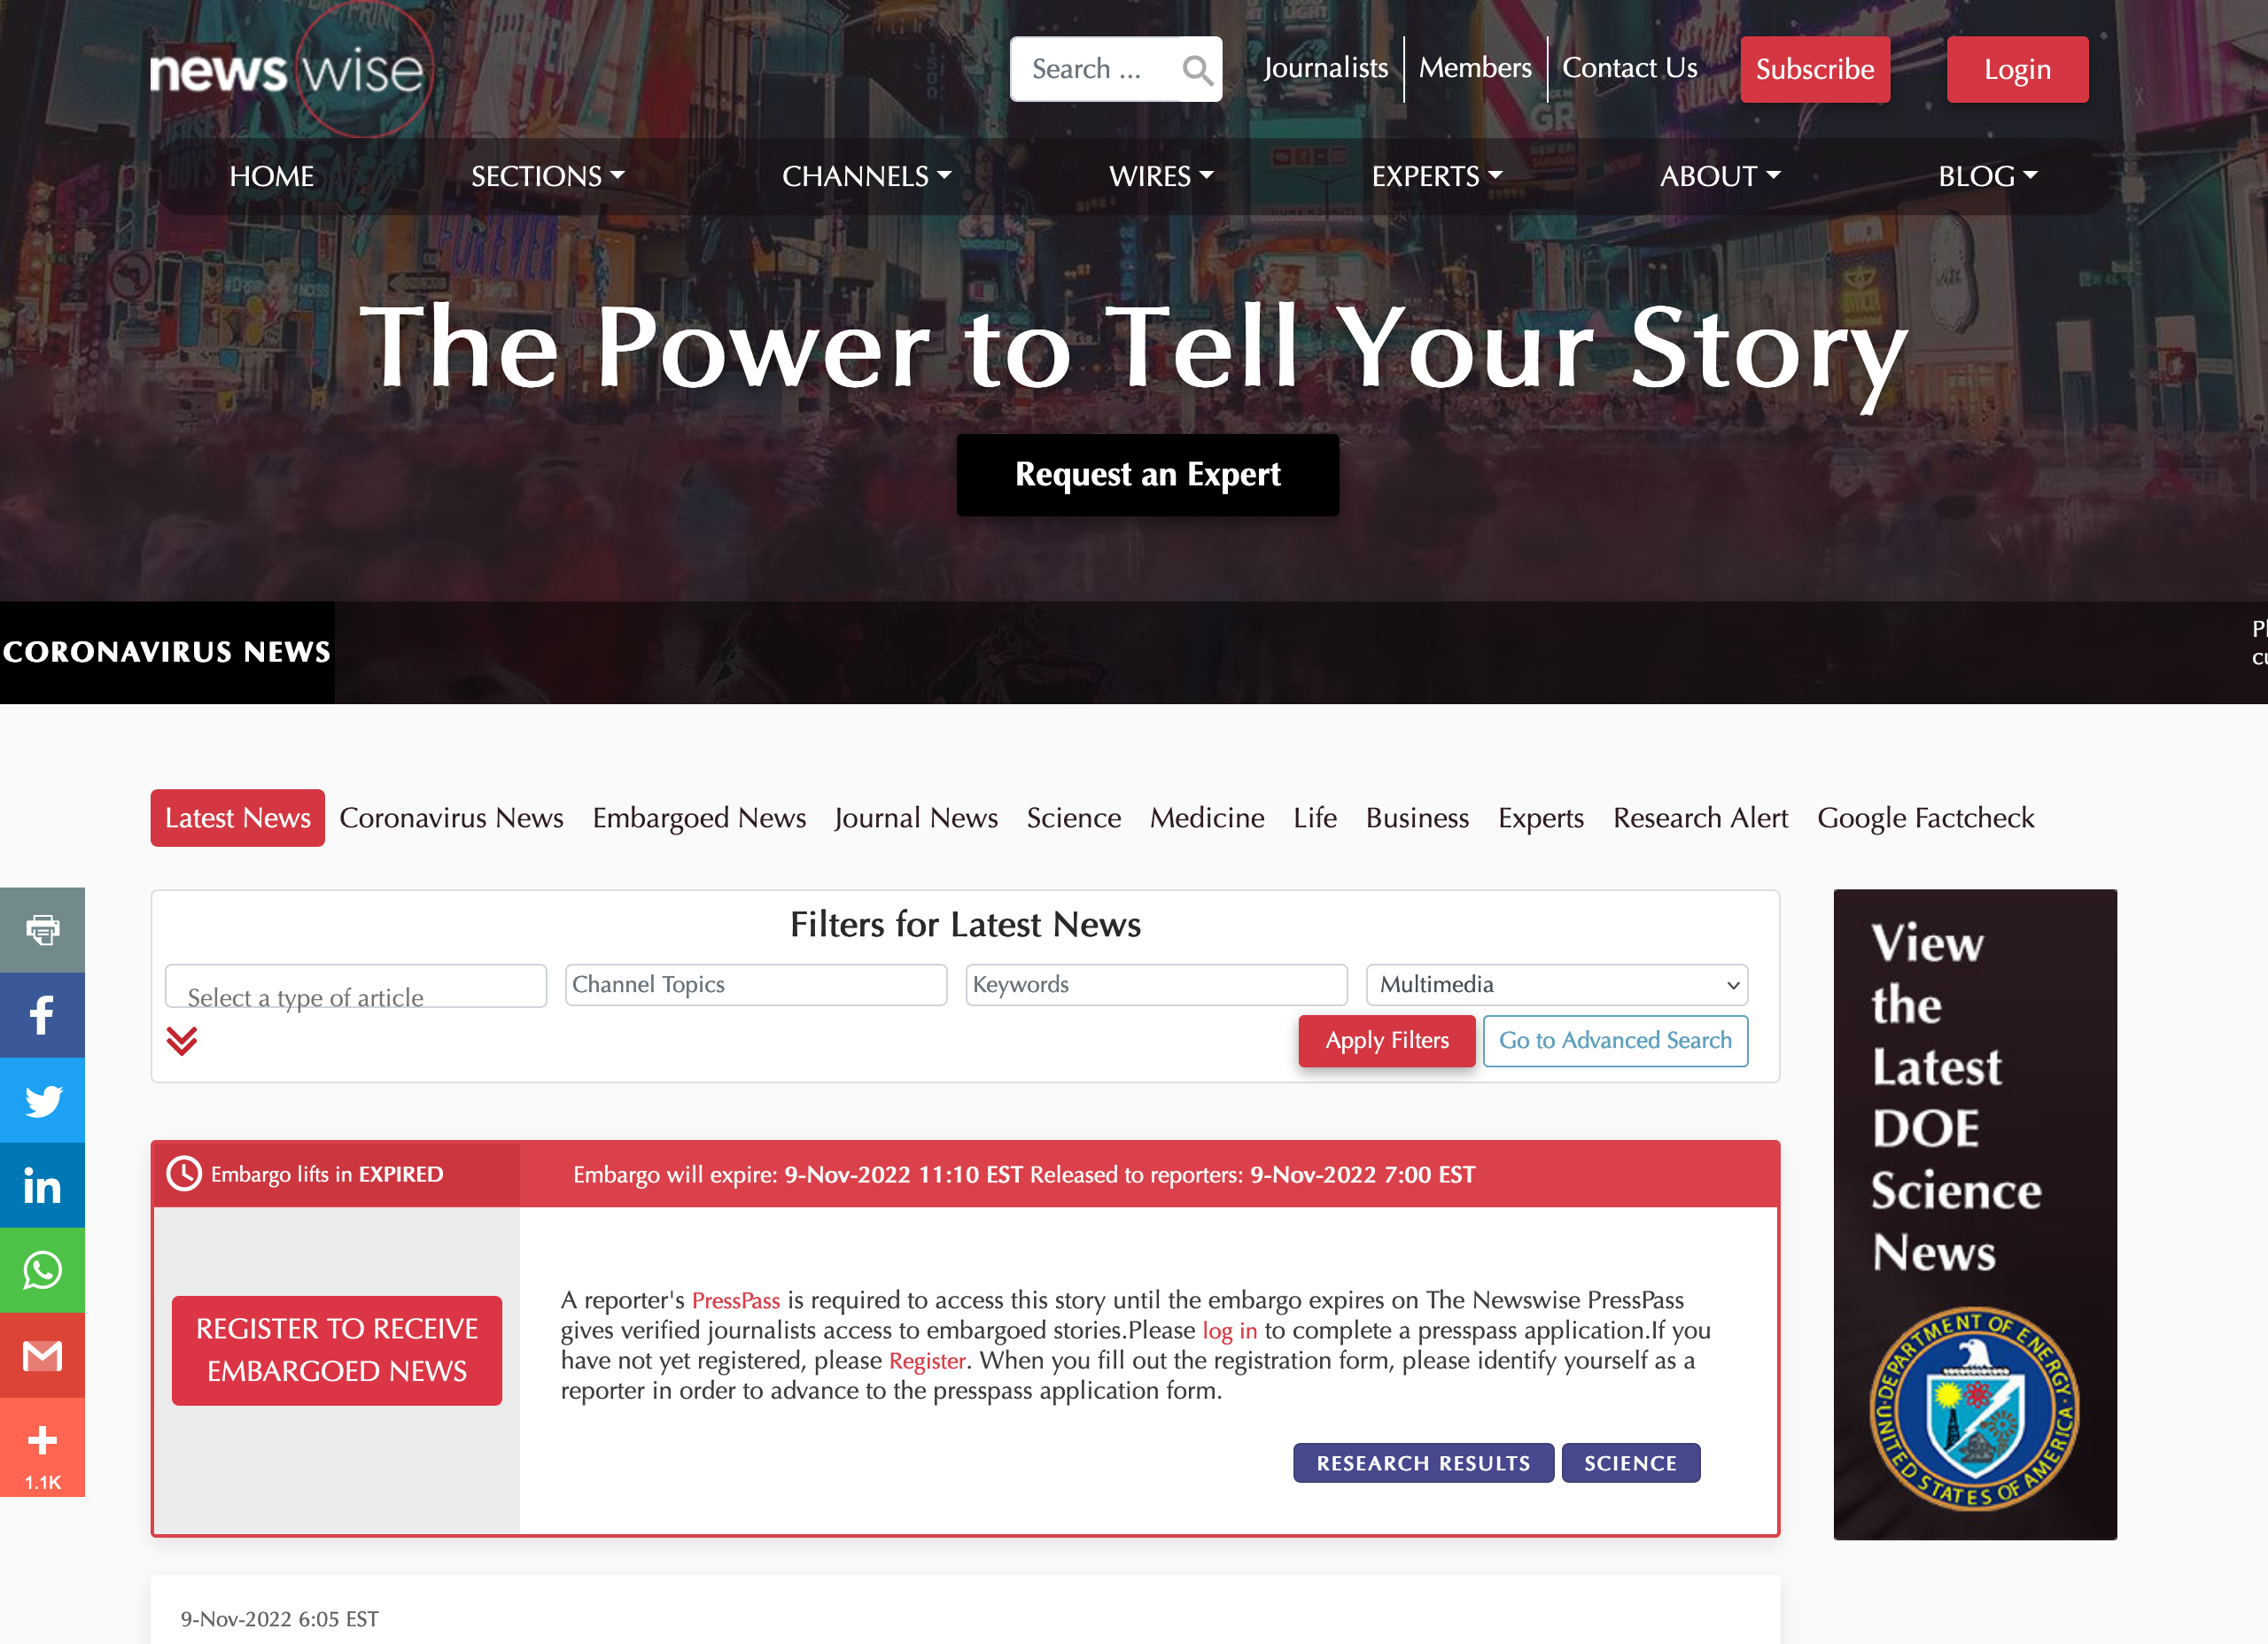Login: (1933, 28, 2108, 114)
